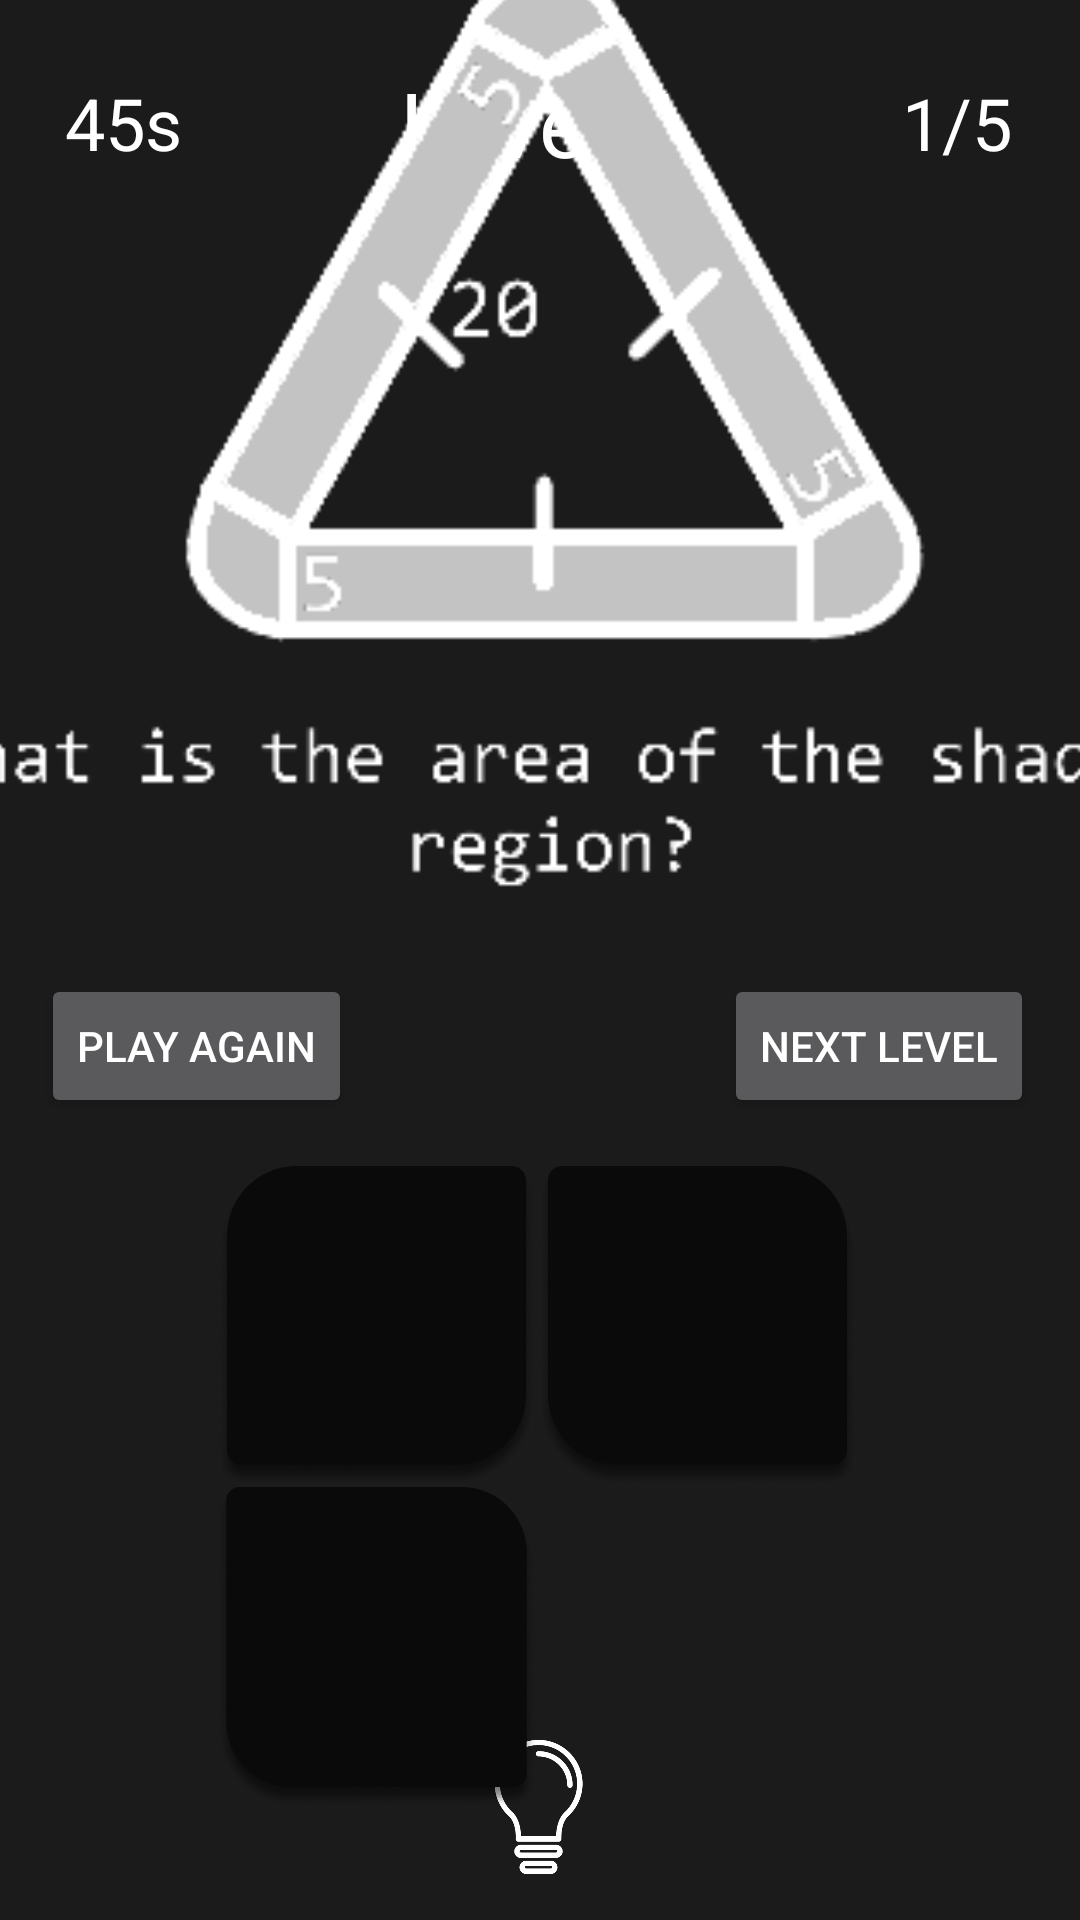

Locate icon controls on the screen. Image size 1080*1920, boxes as (x1, y1, x2, y2).
bulb: (495, 1740, 583, 1874)
